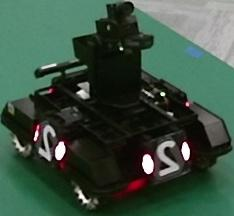armor_2: (142, 142, 191, 175), (34, 125, 65, 160)
front_2: (154, 136, 184, 179)
right_2: (37, 120, 58, 162)
